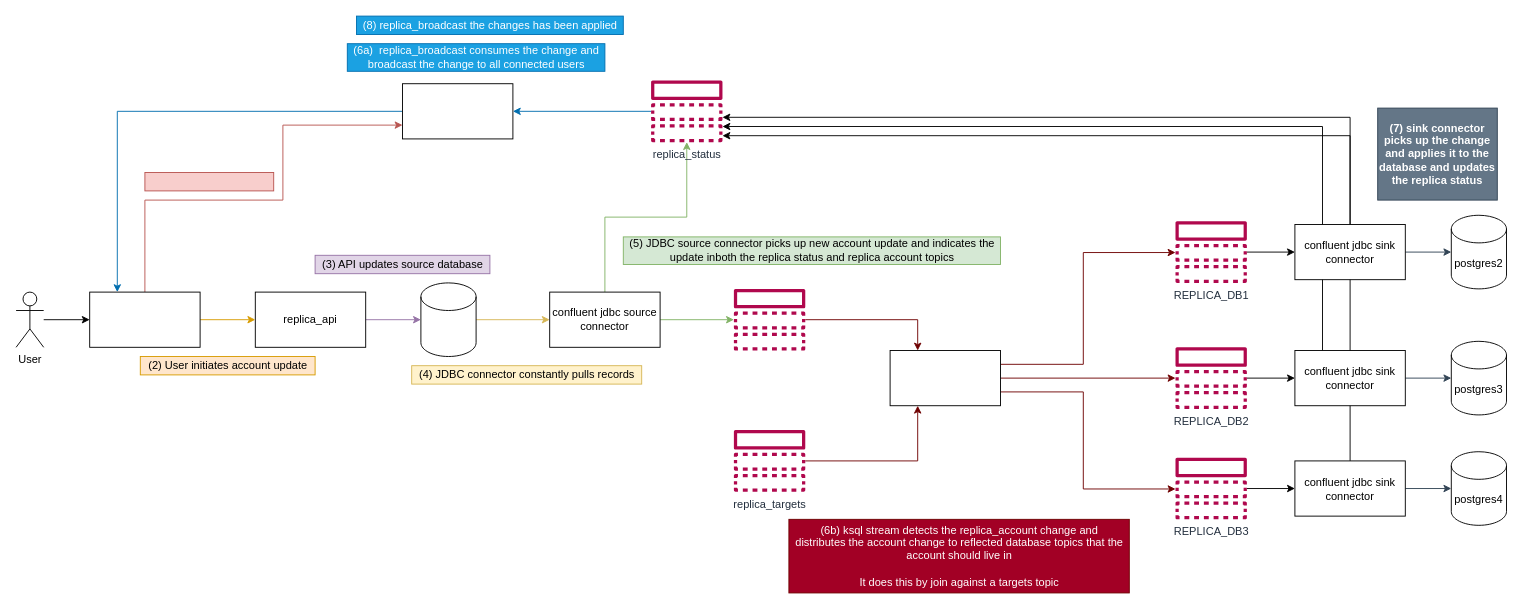
Image size: 1523x609. Some labels were removed from this diagram. Here are the shapes that lost their labels. From the top down, the centre of each, then its label:
At point (457, 111): "replica_broadcast".
At point (209, 181): "(1) Initialize Websocket".
At point (144, 319): "replica_ui".
At point (448, 319): "postgres1".
At point (769, 319): "replica_account".
At point (944, 378): "ksql stream".
